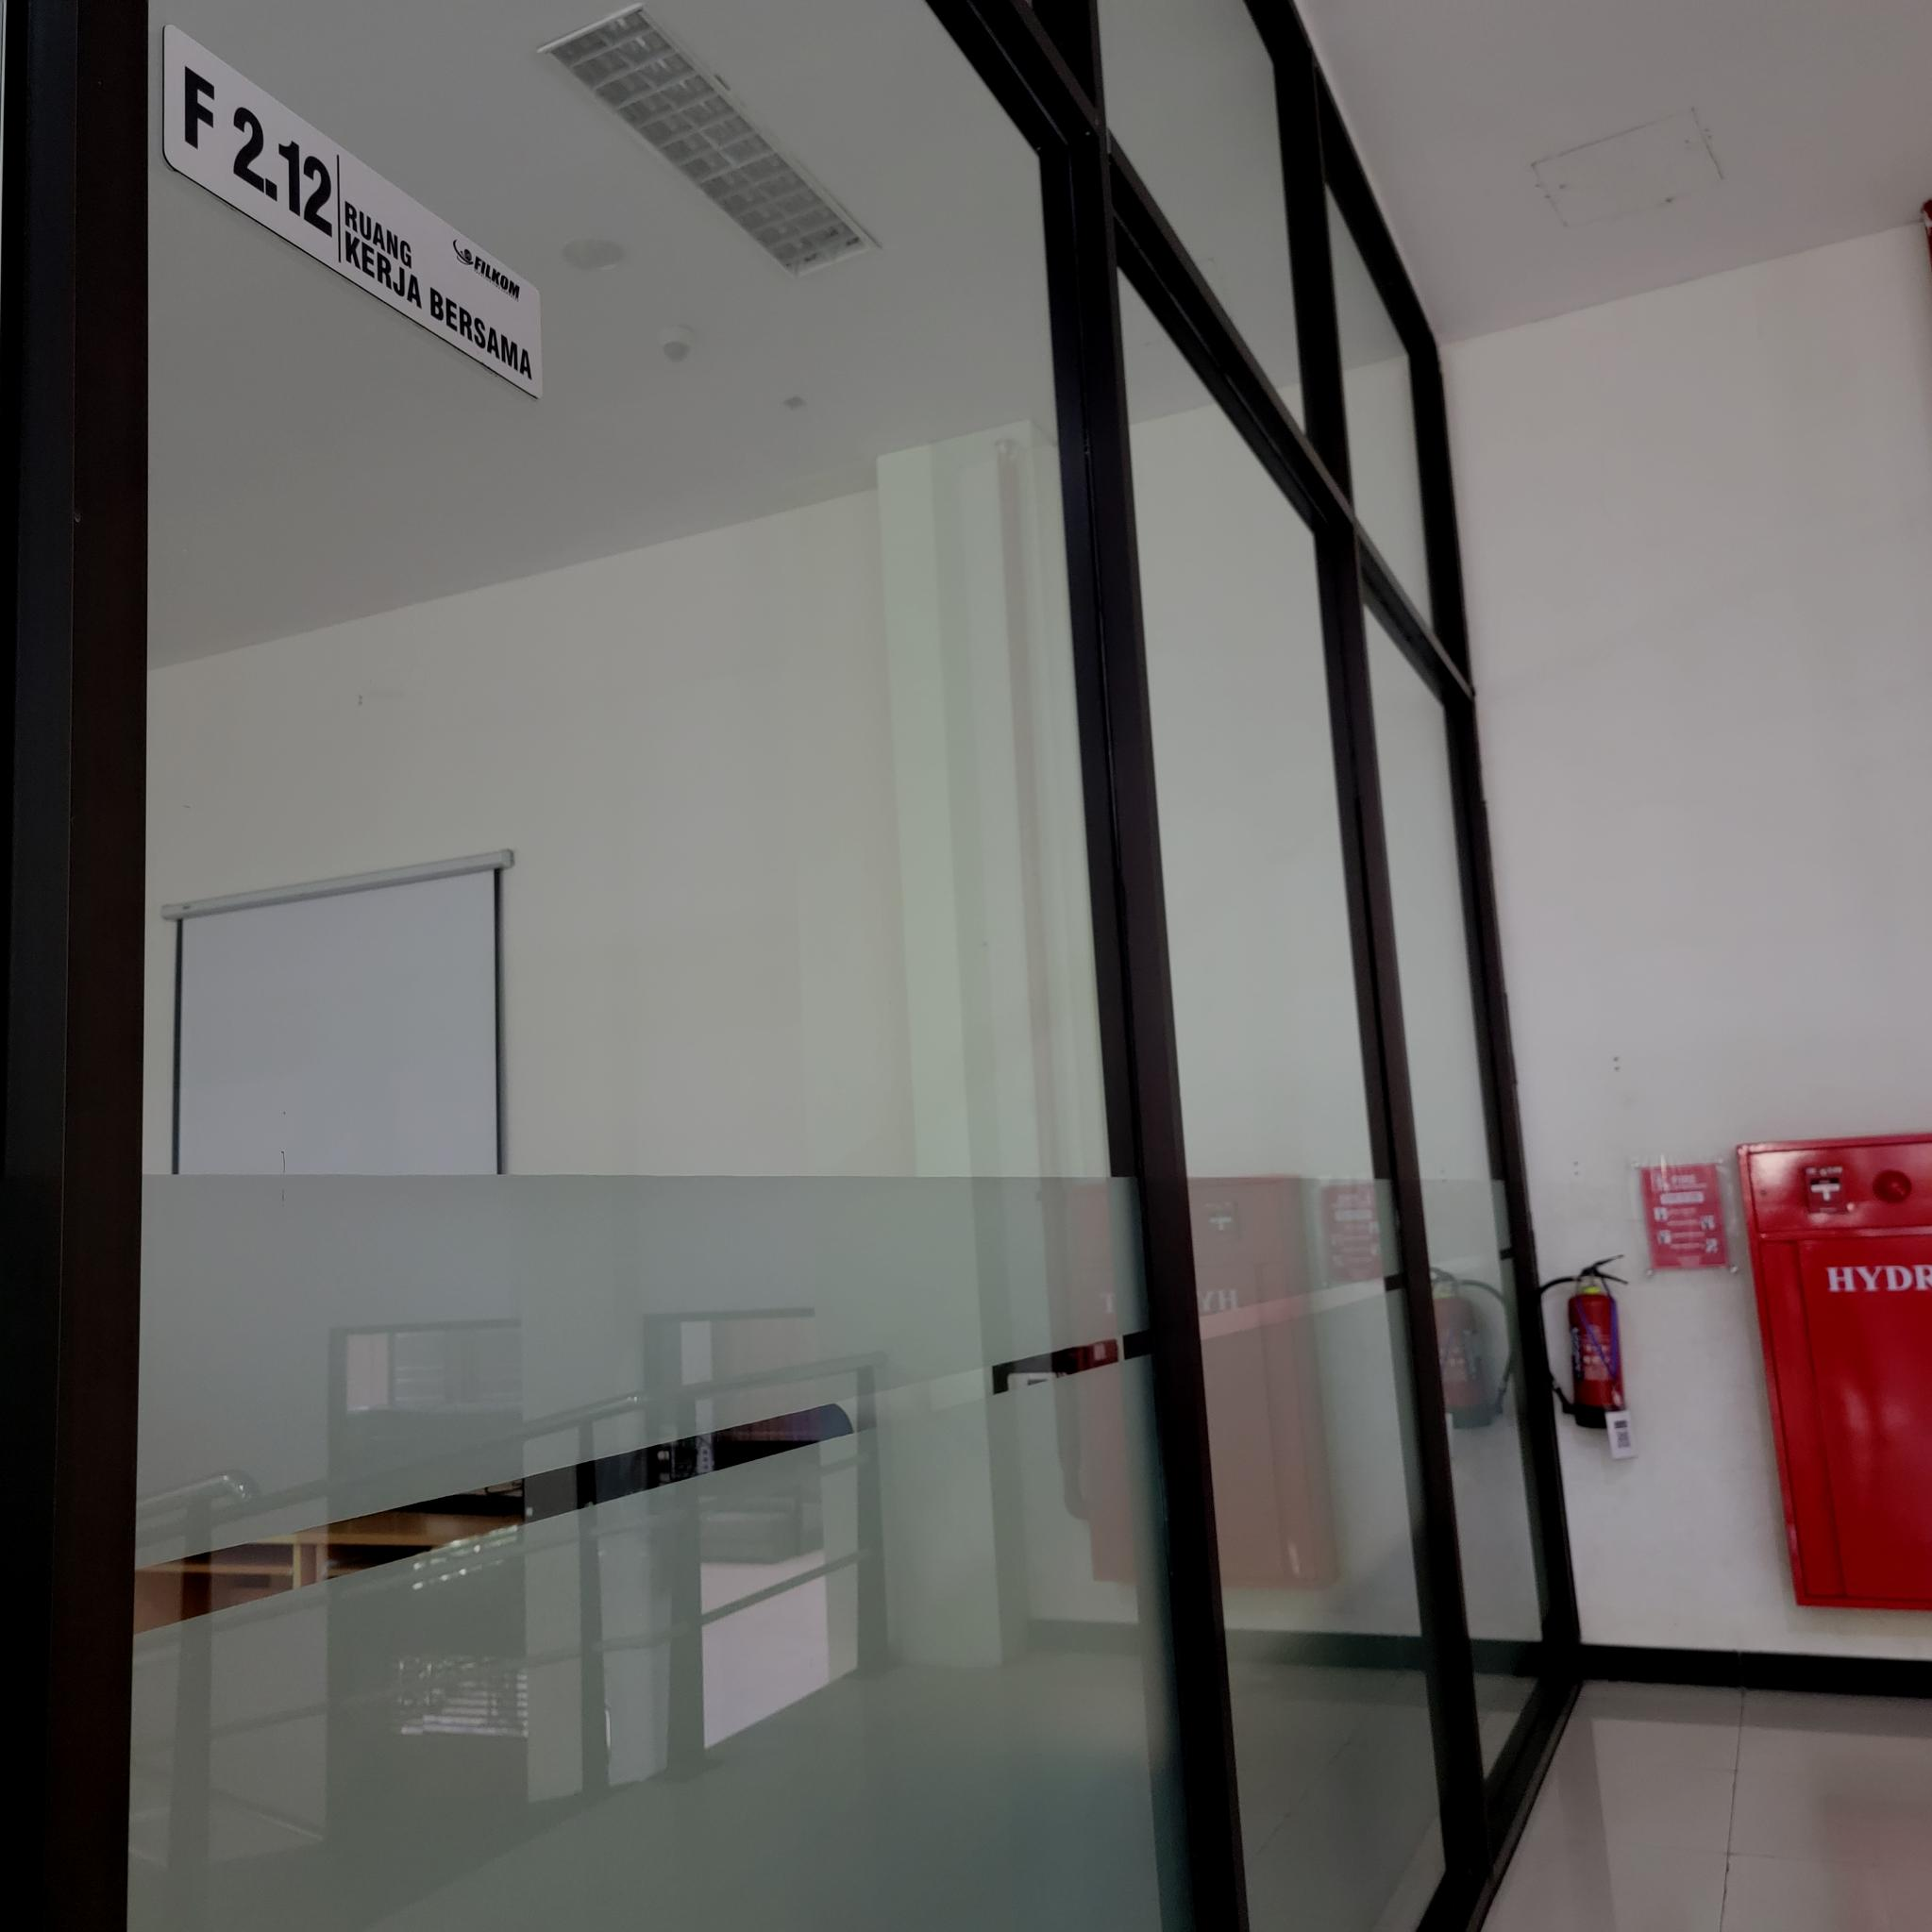plate: (163, 19, 545, 409)
